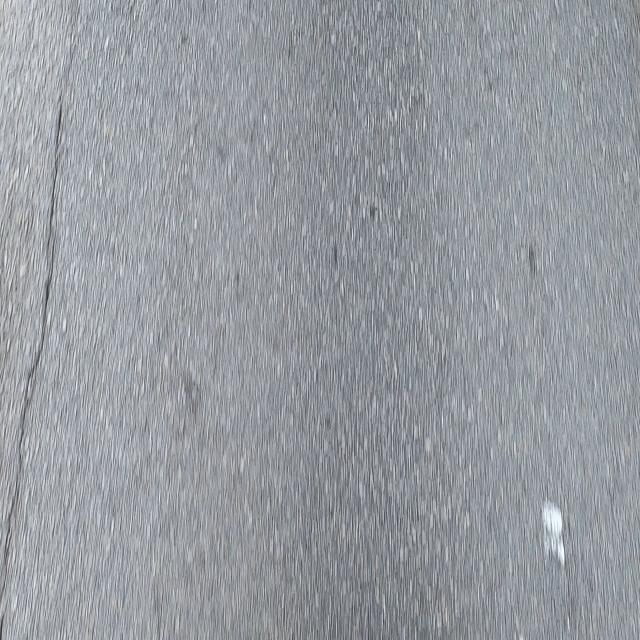Retak-Memanjang: (0, 107, 66, 609)
